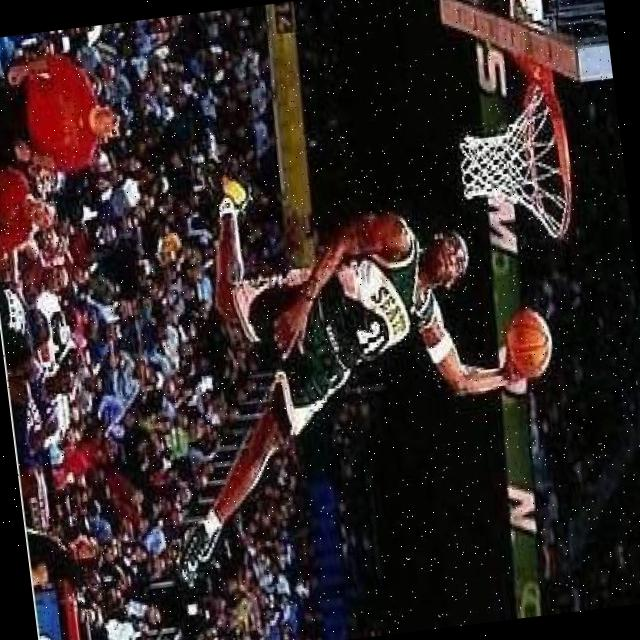ball: (500, 308, 556, 382)
hoop: (512, 69, 580, 242)
